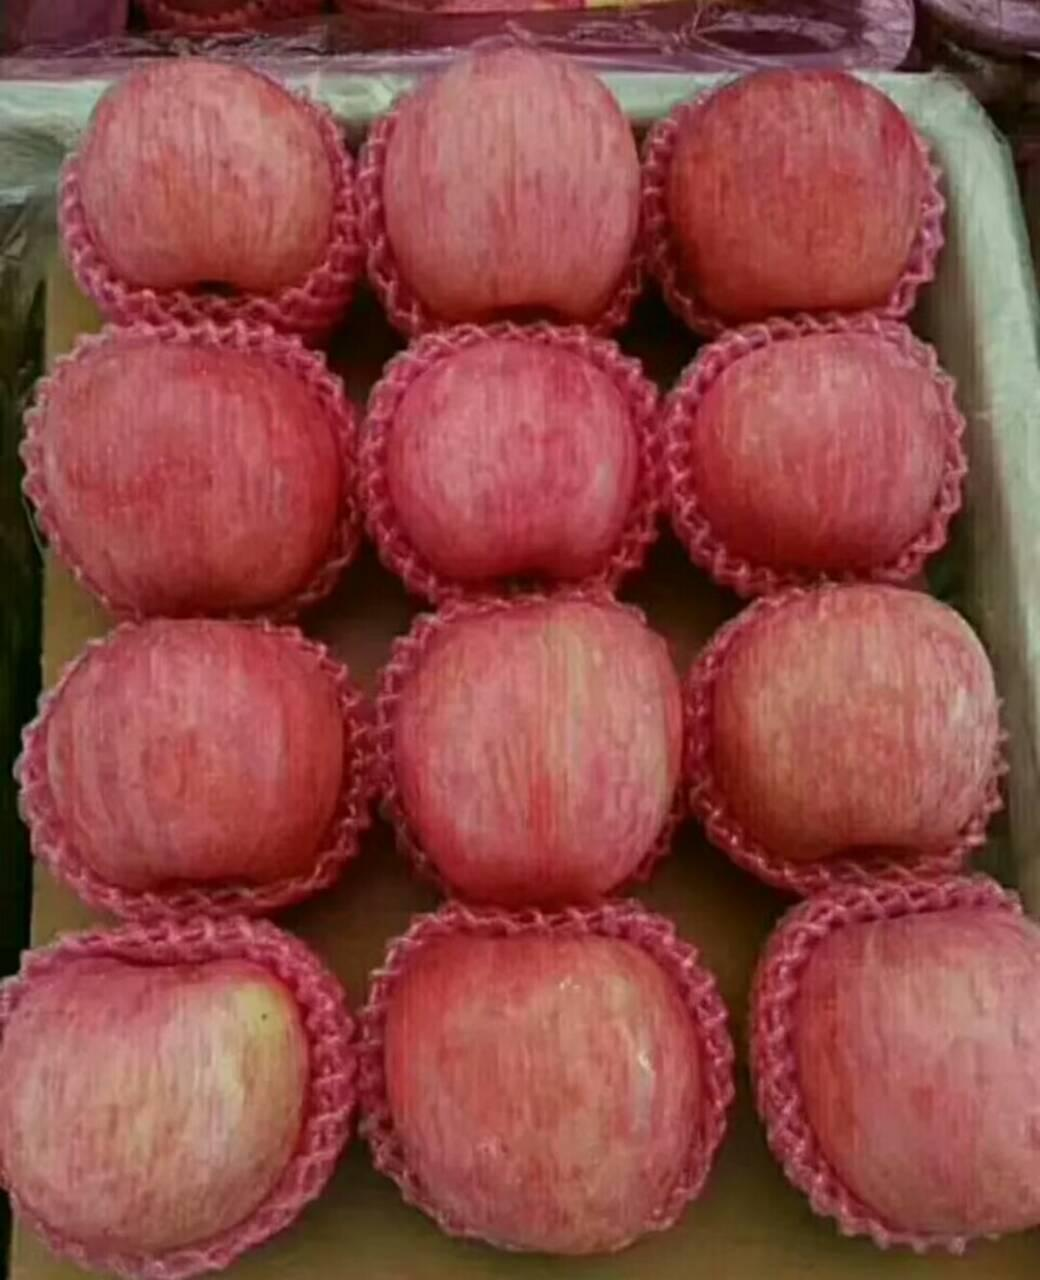apple: (377, 929, 701, 1248), (49, 615, 350, 895), (5, 956, 306, 1236), (44, 338, 344, 617), (403, 611, 680, 893), (720, 591, 1001, 858), (800, 910, 1035, 1225), (384, 57, 636, 315), (386, 342, 635, 580), (688, 335, 937, 572), (672, 75, 921, 312), (83, 51, 328, 286)
